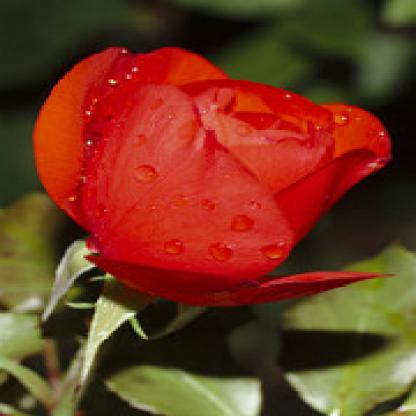Rose-Mawar: (24, 34, 408, 299)
